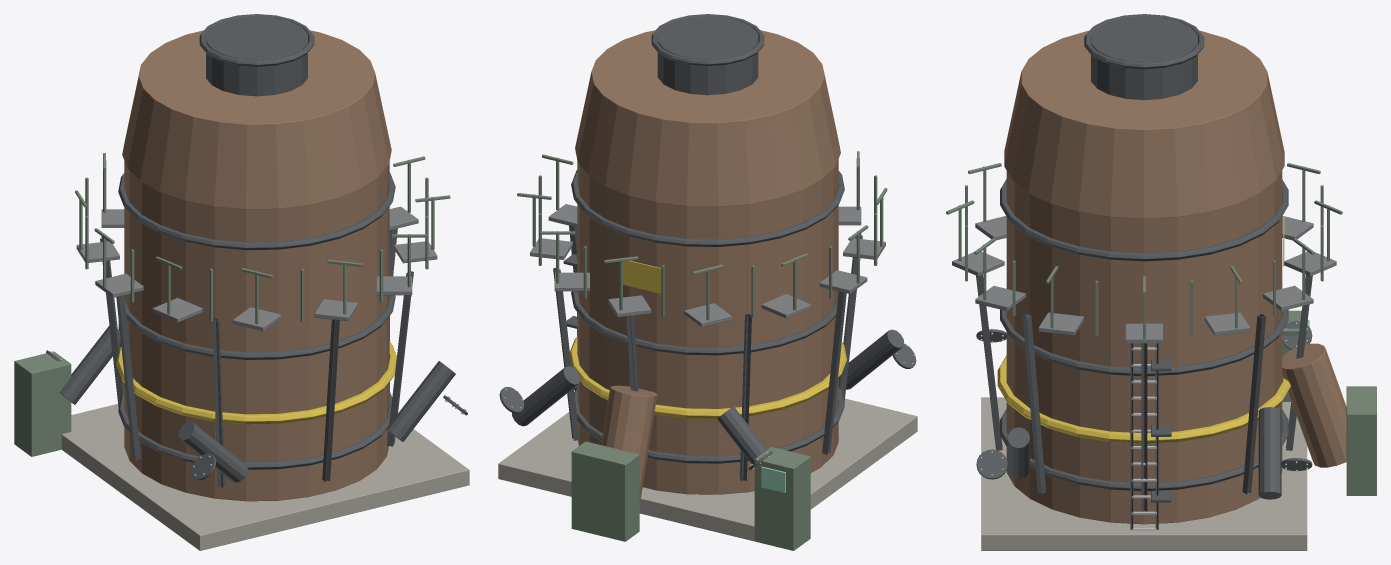
The model's file is furnace_kiln.fbx.
3 renders of one model, left to right at view 1: azimuth 30°, elevation 25°; view 2: azimuth 150°, elevation 25°; view 3: azimuth 270°, elevation 25°, orthographic. The views are drawn at different scales.
Parts seen in each view (by area): view 1: furnace_kiln; view 2: furnace_kiln; view 3: furnace_kiln.
Boxes of the visible parts, bbox=[...] form: furnace_kiln: bbox=[14, 14, 469, 550]; furnace_kiln: bbox=[498, 14, 917, 550]; furnace_kiln: bbox=[946, 14, 1376, 550].
Size of the model in its own units: 6.66 by 8.1 by 7.13.
